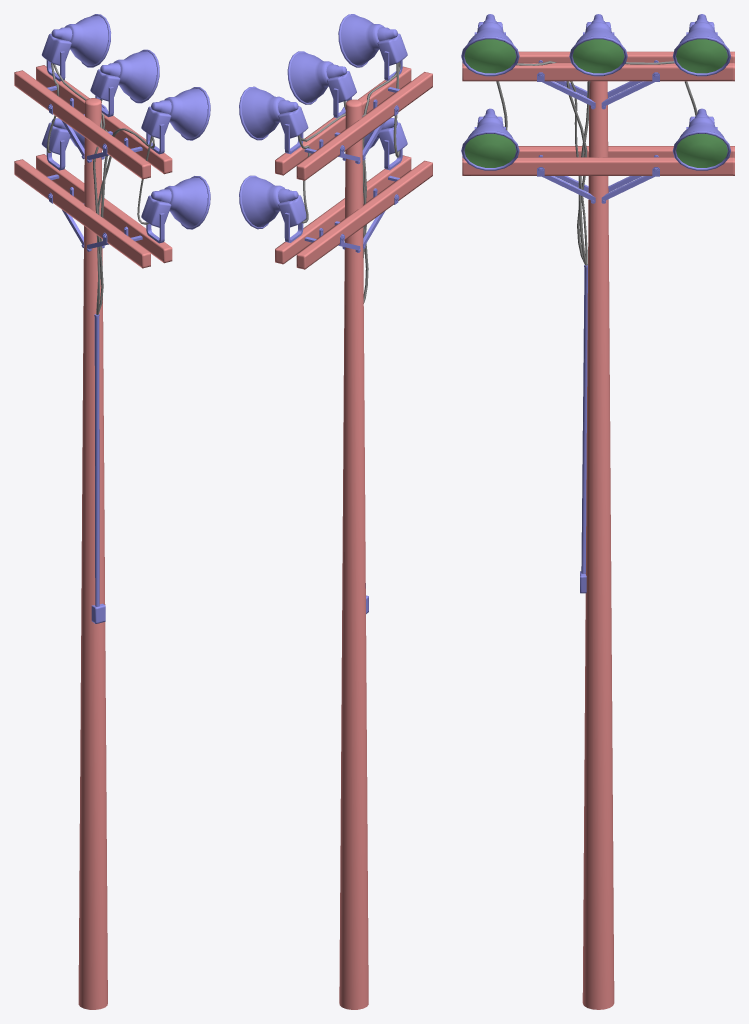
Rendered from Woods_PowerLine_Light_02.gltf.
The picture shows the model from 3 angles, left to right: view 1: azimuth 30°, elevation 25°; view 2: azimuth 150°, elevation 25°; view 3: azimuth 270°, elevation 25°; orthographic projection. The views are drawn at different scales.
Parts seen in each view (by area): view 1: Woods_PowerLine_Light_02; view 2: Woods_PowerLine_Light_02; view 3: Woods_PowerLine_Light_02.
Part boxes in pixels (x1,y1,x2,y2): Woods_PowerLine_Light_02: [14, 14, 210, 1009]; Woods_PowerLine_Light_02: [239, 14, 432, 1009]; Woods_PowerLine_Light_02: [461, 14, 734, 1009].
Bounding box in the file's own units: 1.49 × 17.37 × 4.32.
